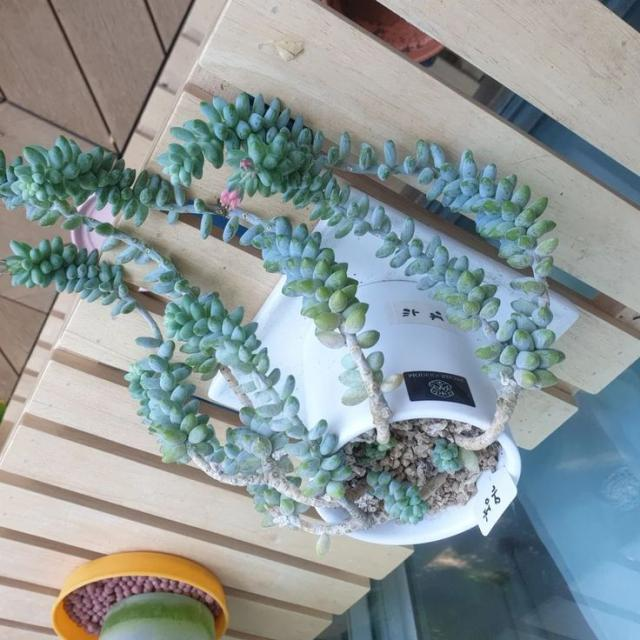Sedum: (166, 98, 555, 394), (6, 152, 399, 407), (78, 220, 351, 502), (288, 157, 534, 387), (127, 349, 223, 463), (6, 240, 142, 314)
